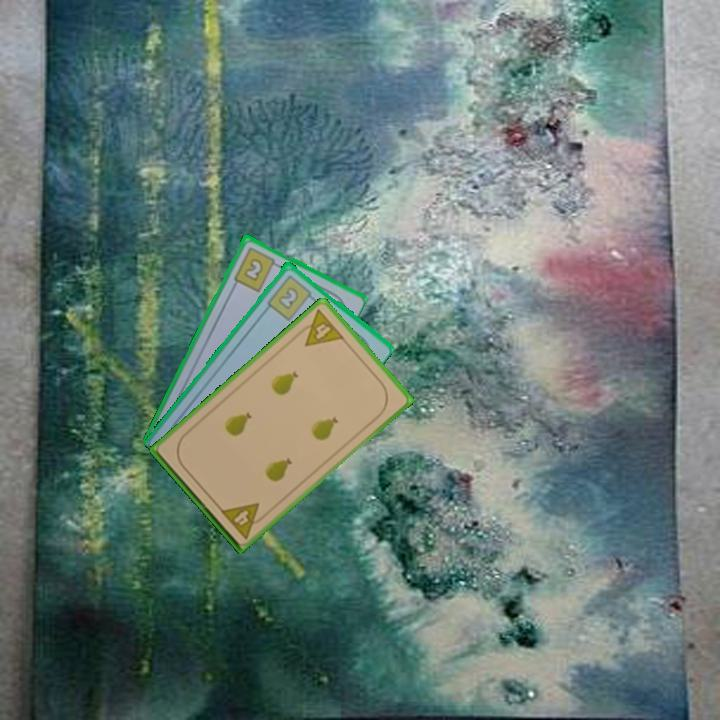2b: (263, 271, 318, 323), (230, 243, 282, 294)
4p: (292, 306, 347, 349), (217, 499, 270, 541)
